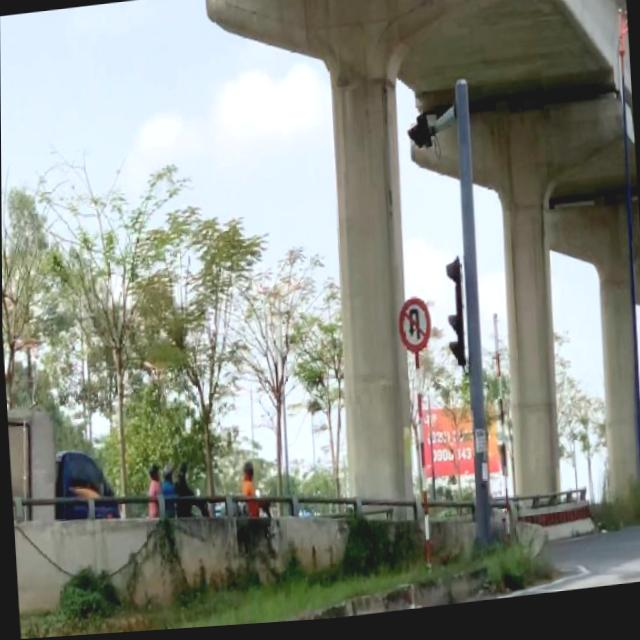Cam quay dau xe: (397, 299, 434, 361)
